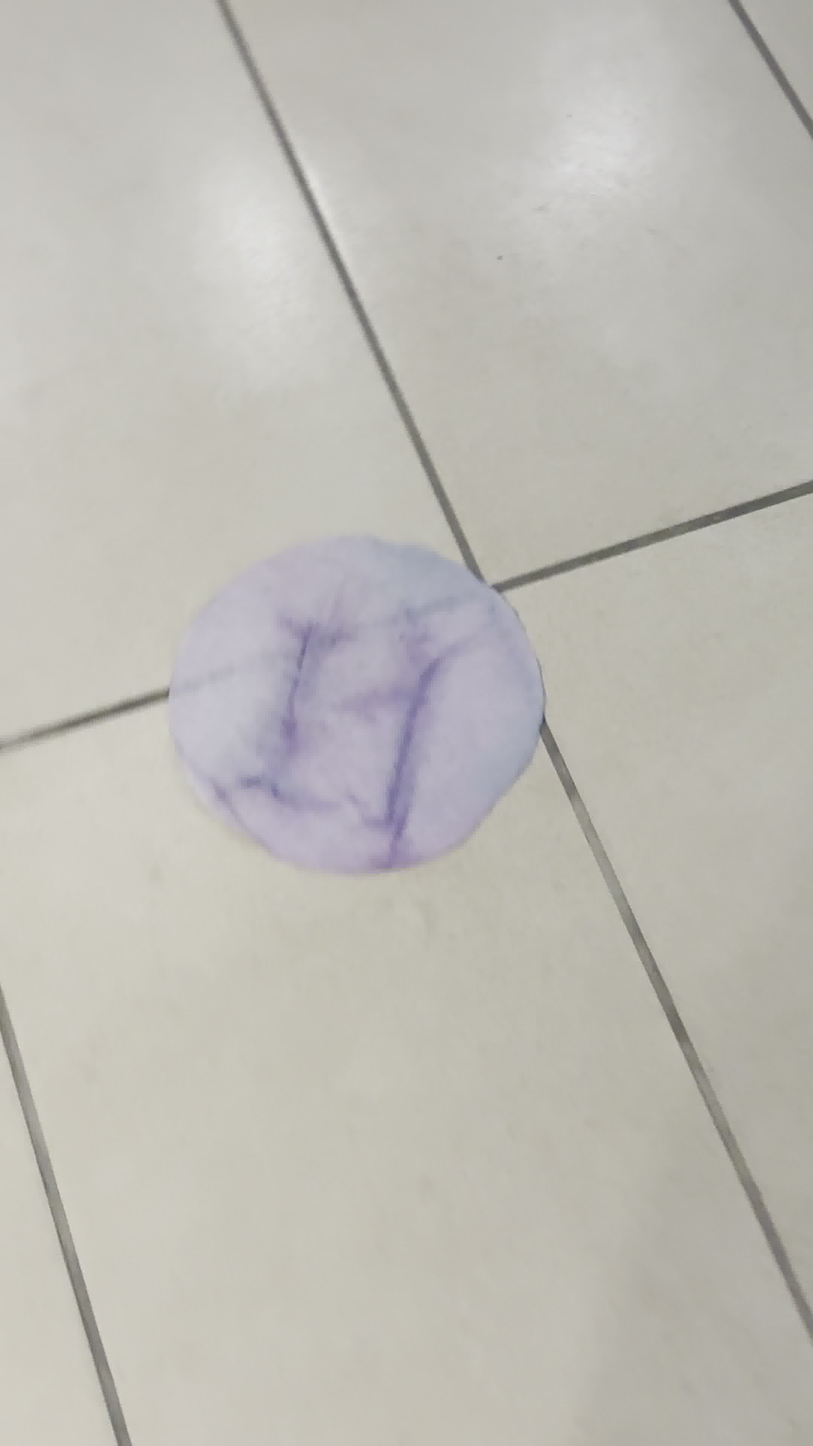Target: (172, 535, 543, 879)
